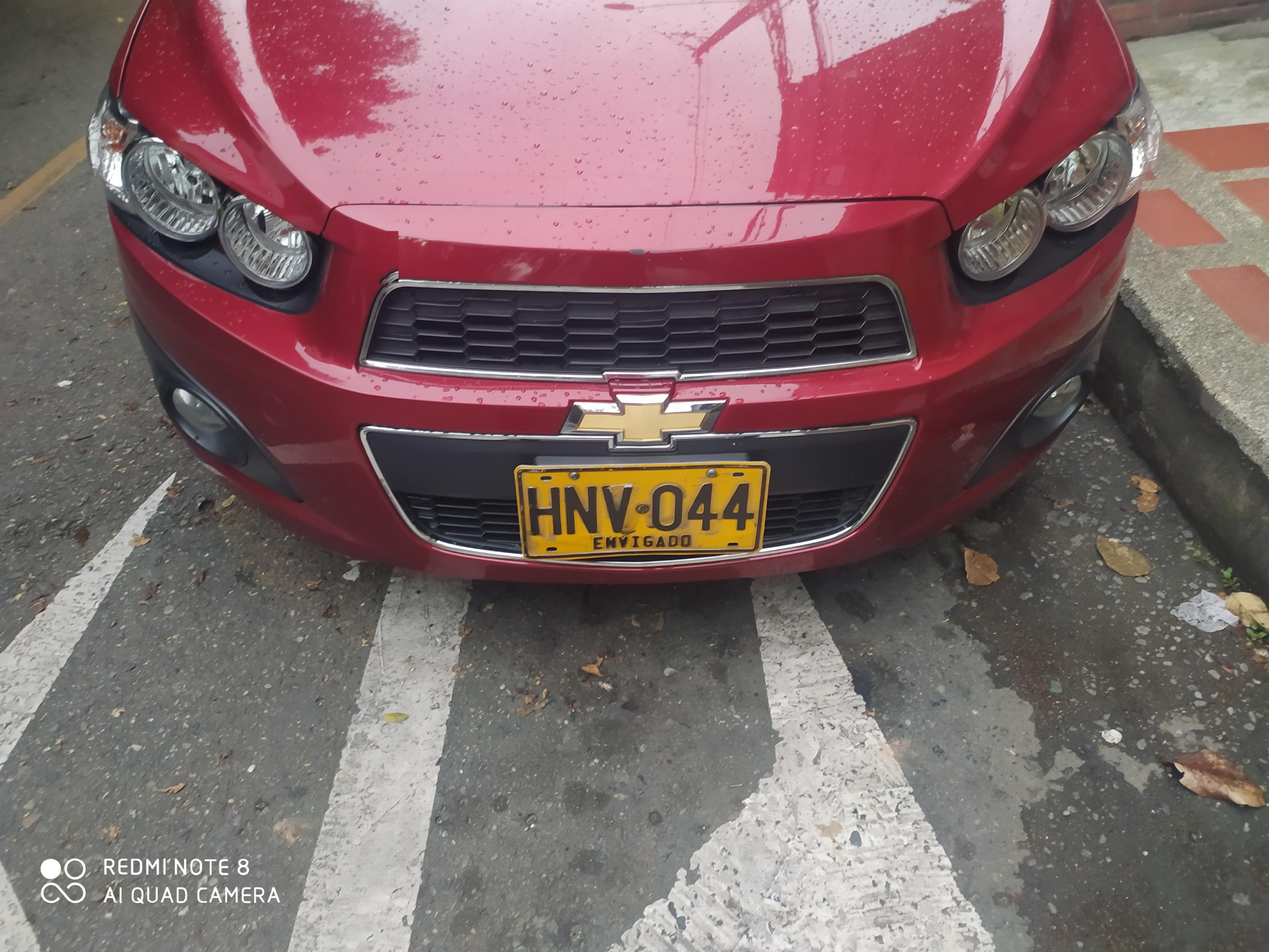placa: (505, 451, 778, 570)
